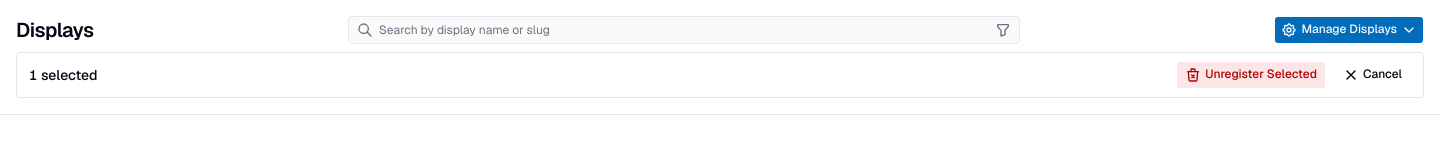
Test: DisplaysToolbar › hides bulk unregister while bulk mode is active
Click the button "Manage Displays".
click(1349, 30)  # box [1274,16,1424,44]
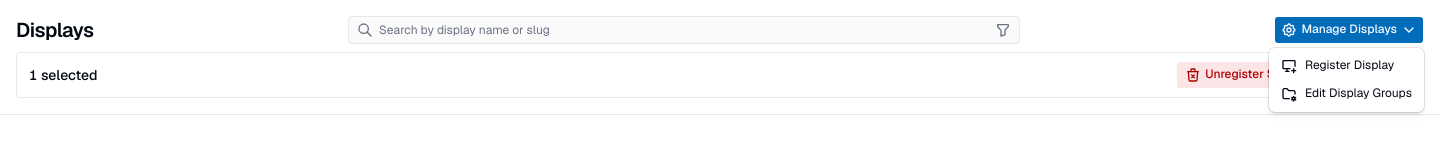
Now the menu item "Register Display" is shown, box [1281,57,1394,74]
